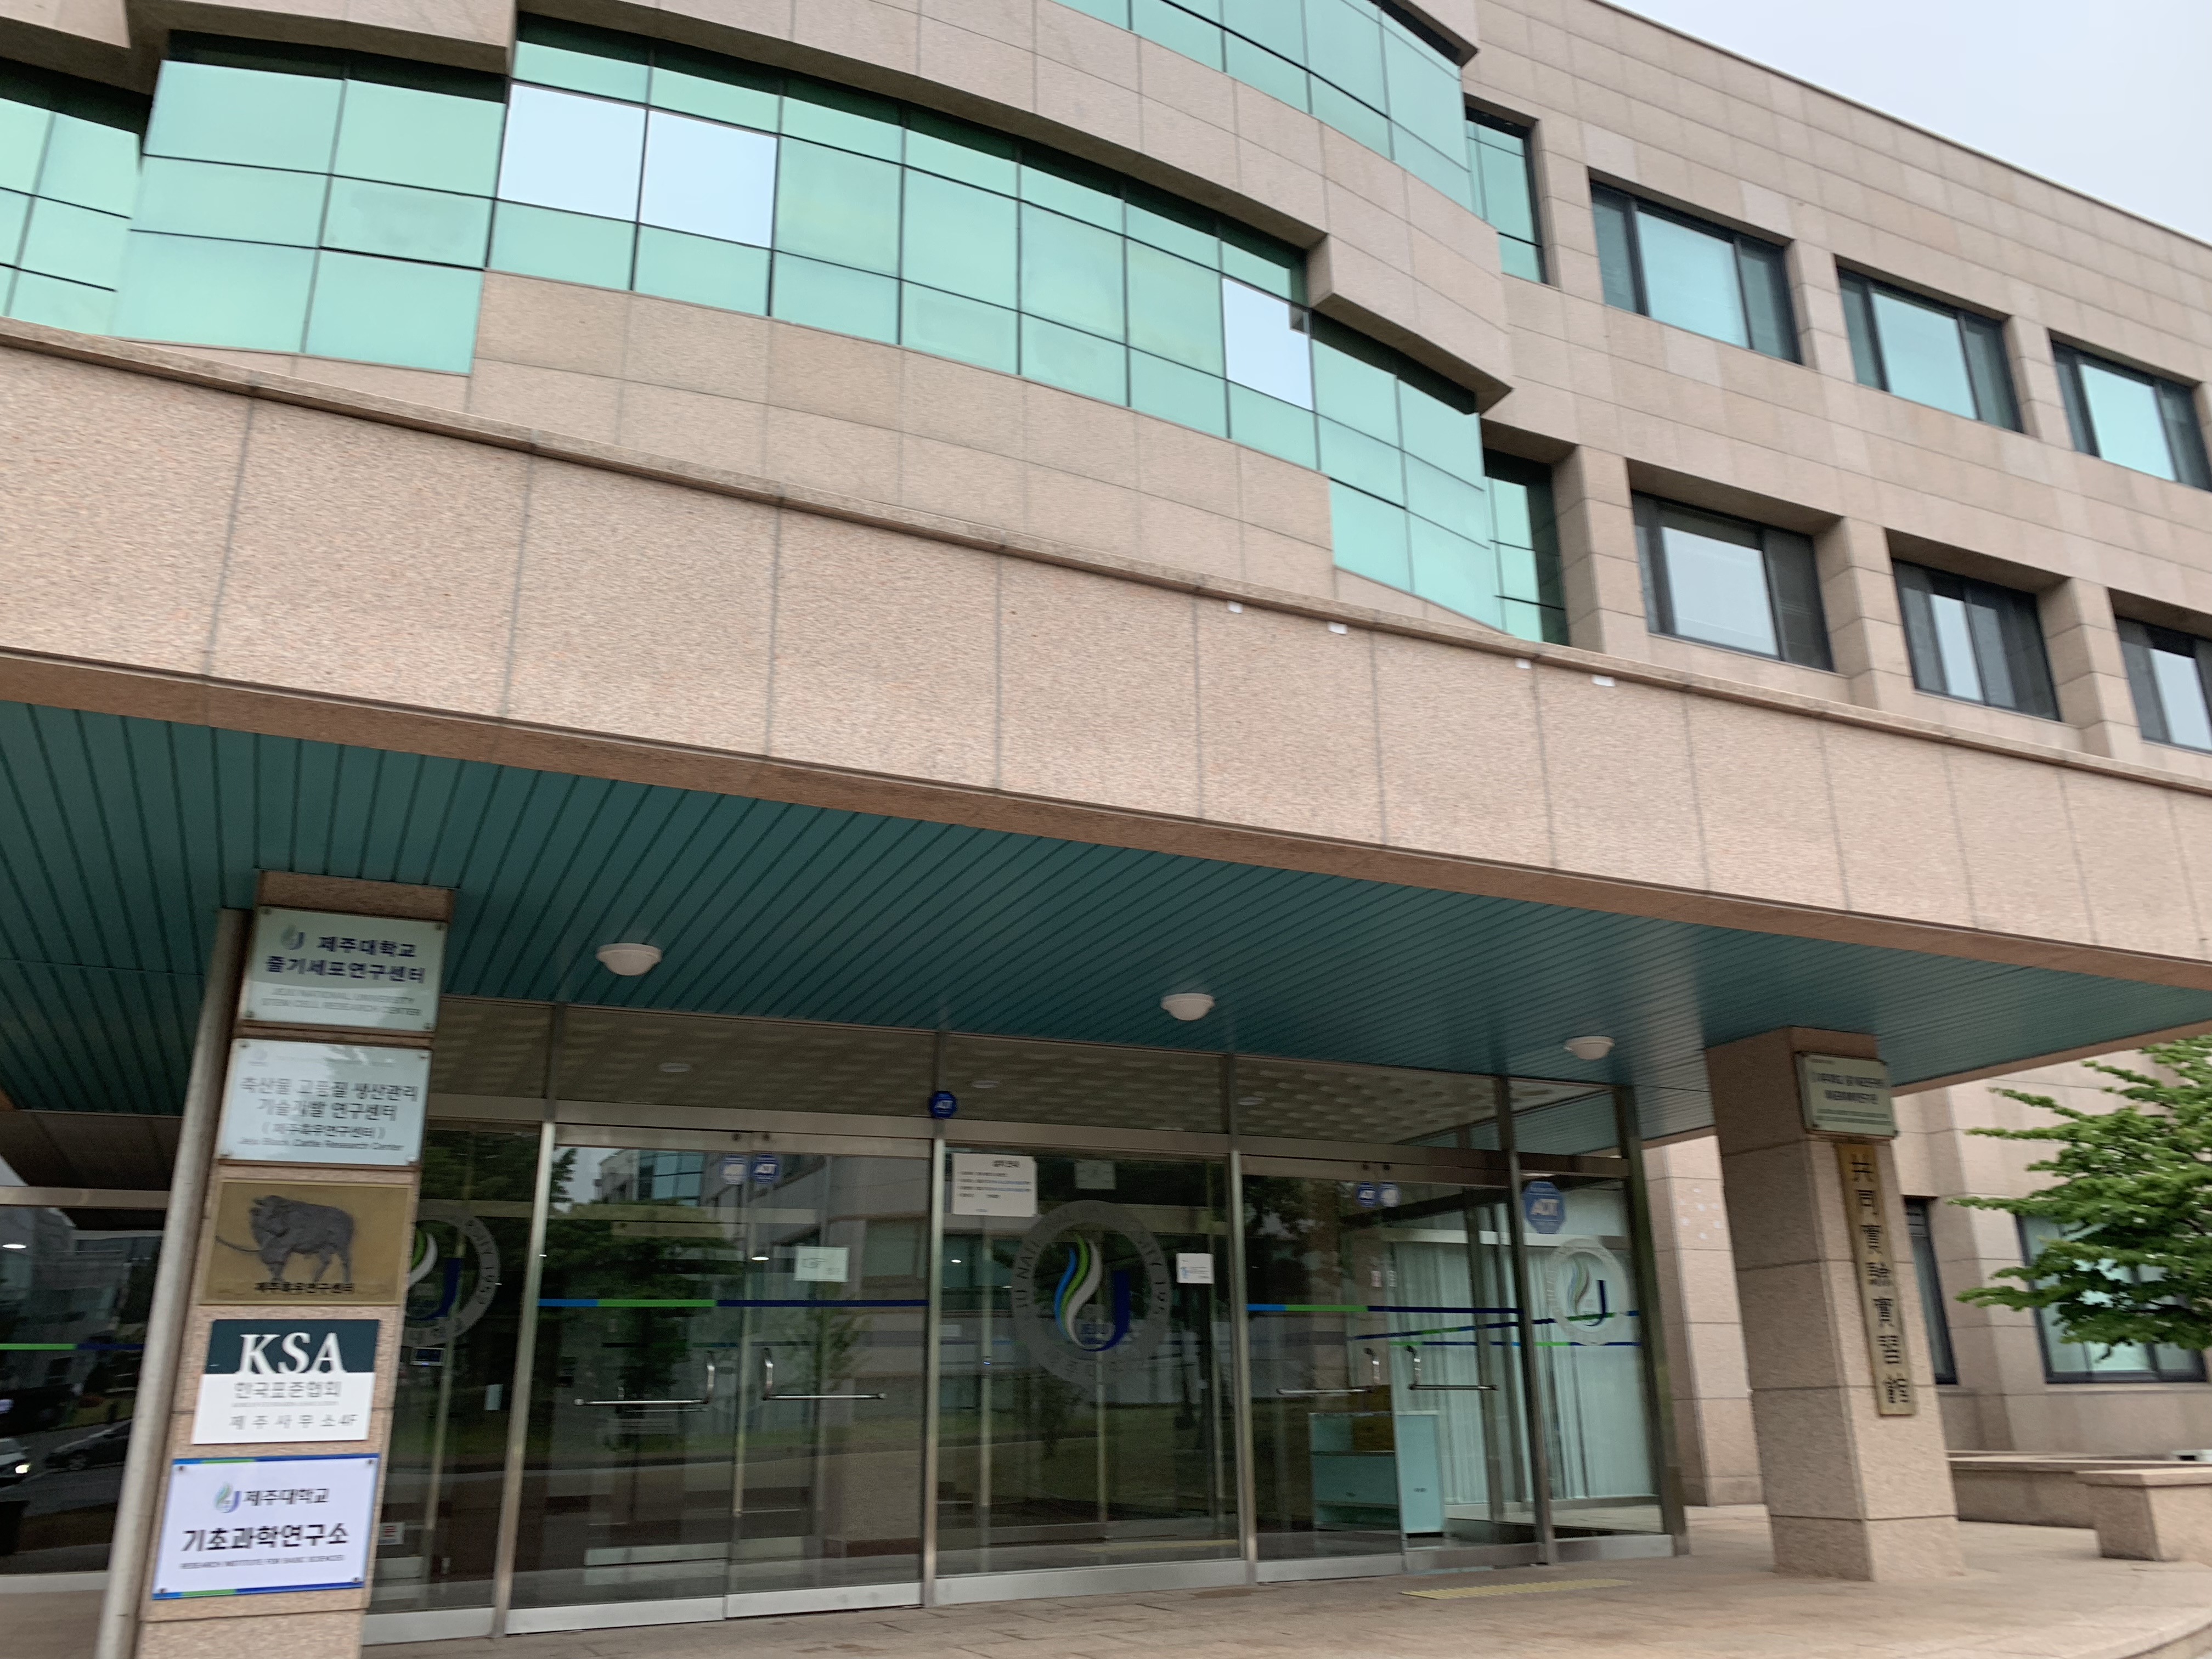Joint Experimental Labs: (225, 78, 2113, 1598)
